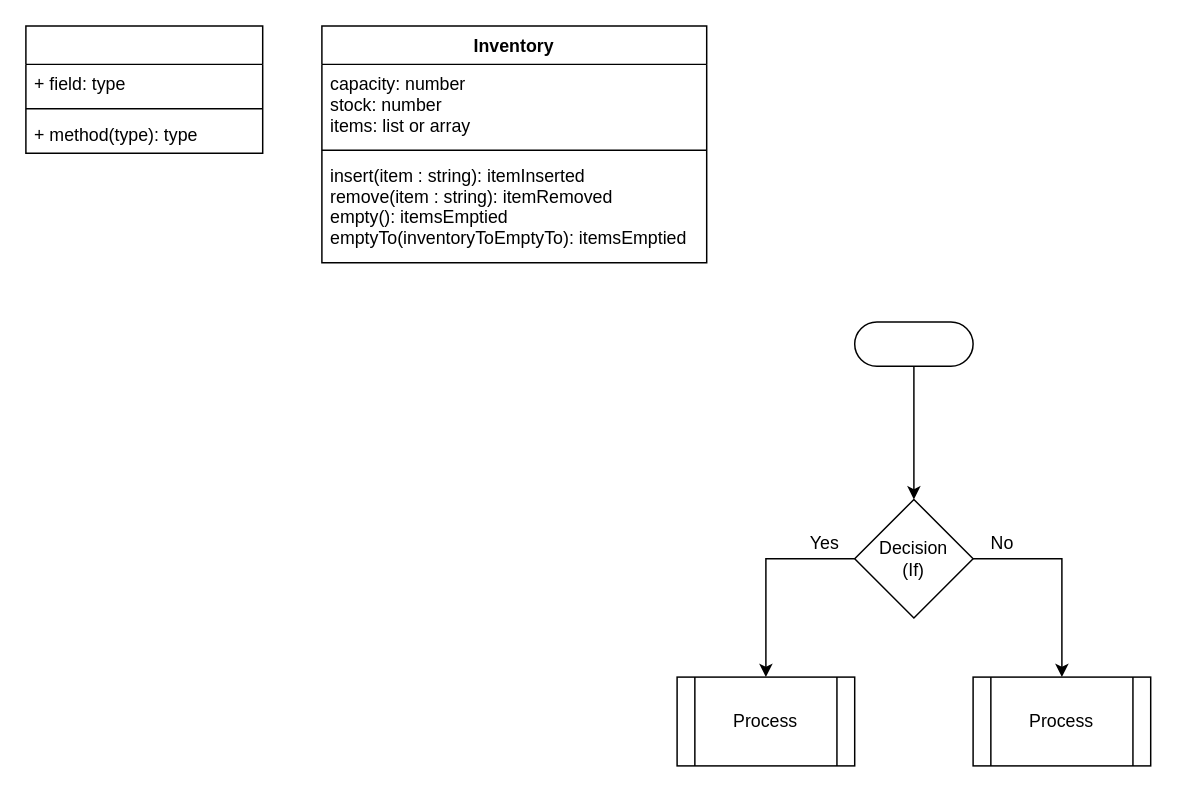
Image size: 1177x792. Some labels were removed from this diagram. Each missing label, with the box of its shape:
Classname: (24, 24, 263, 153)
Start (Input): (853, 320, 973, 366)
